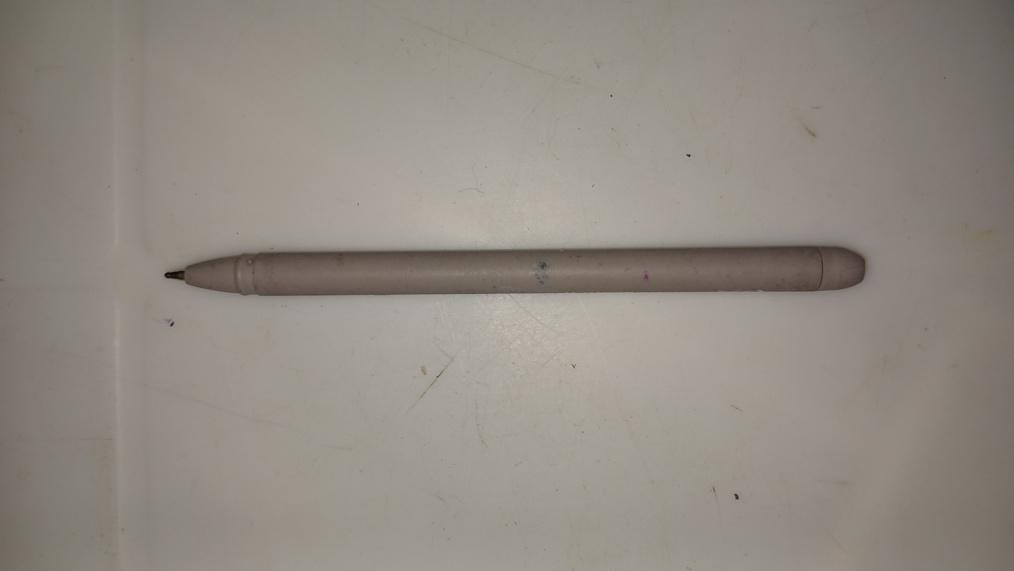pen: (161, 246, 870, 294)
